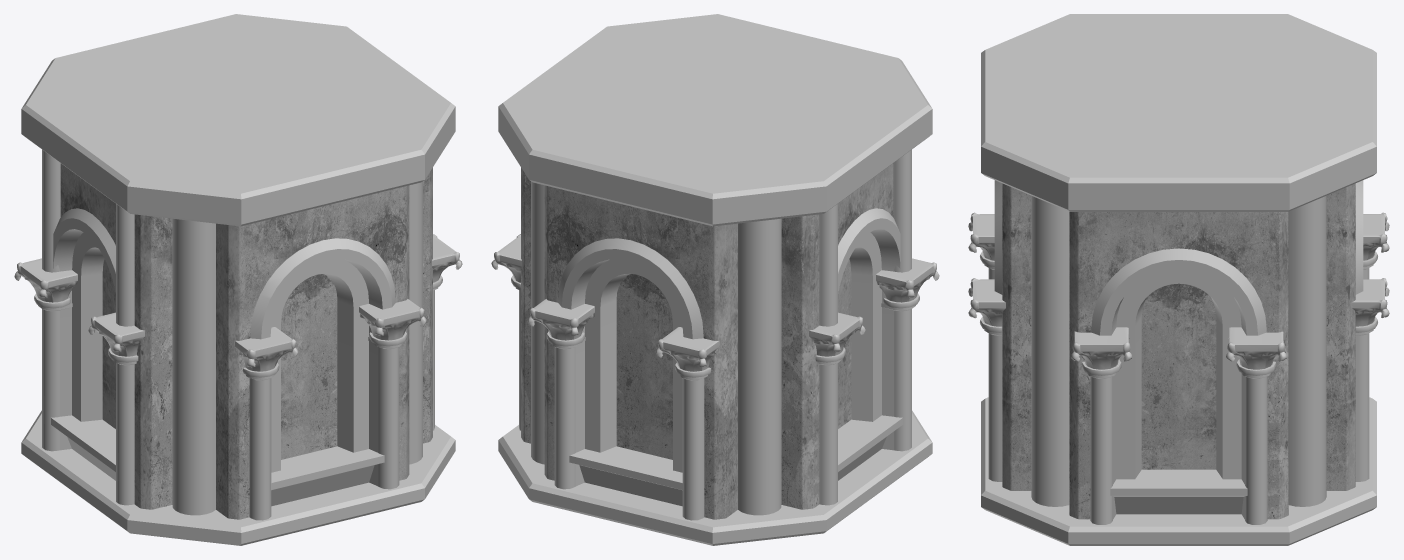
The model's file is SM_TowerPillar_Top_01a.fbx.
3 renders of one model, left to right at view 1: azimuth 30°, elevation 25°; view 2: azimuth 150°, elevation 25°; view 3: azimuth 270°, elevation 25°, orthographic. The views are drawn at different scales.
Visible parts, largest first — view 1: SM_TowerPillar_Top_01a_LOD0; view 2: SM_TowerPillar_Top_01a_LOD0; view 3: SM_TowerPillar_Top_01a_LOD0.
Part boxes in pixels (bbox=[...]): SM_TowerPillar_Top_01a_LOD0: bbox=[14, 14, 462, 545]; SM_TowerPillar_Top_01a_LOD0: bbox=[491, 14, 939, 545]; SM_TowerPillar_Top_01a_LOD0: bbox=[968, 14, 1389, 545].
Bounding box in the file's own units: 518 × 518 × 500.
